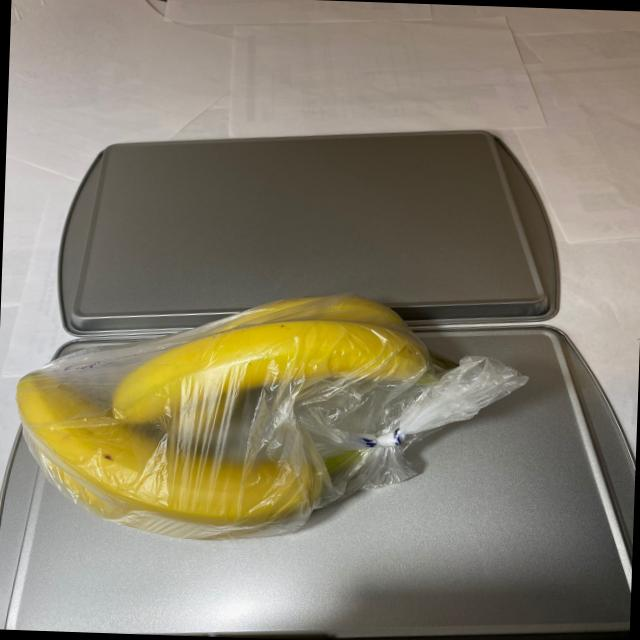banana: (17, 279, 472, 555)
